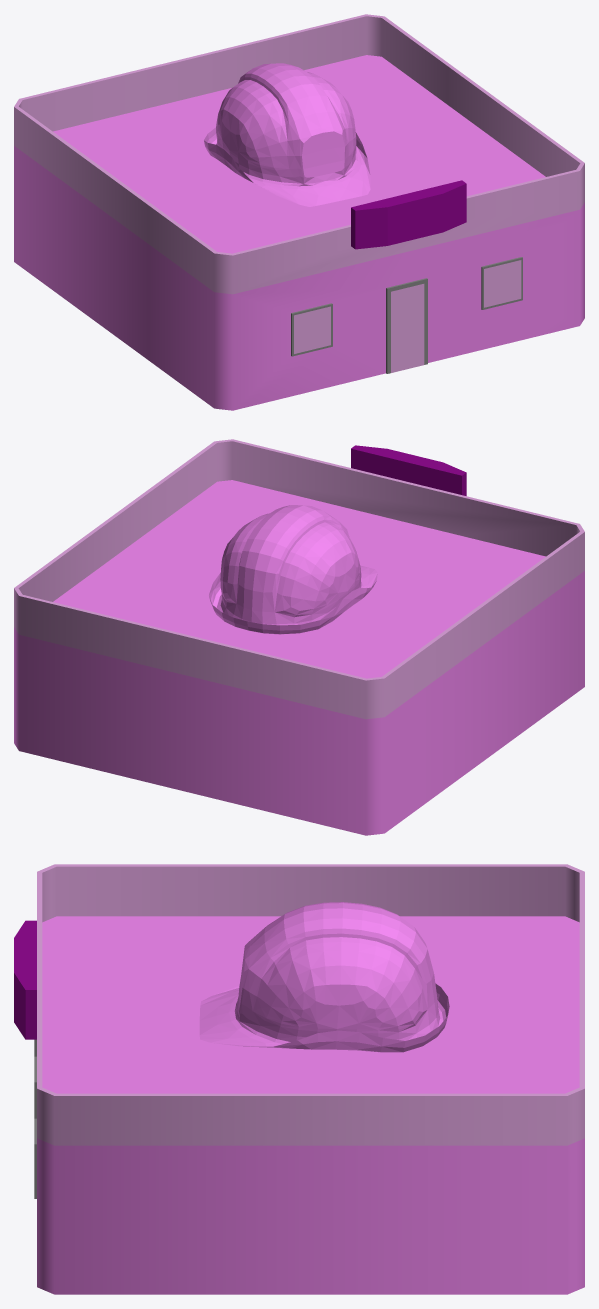
The model's file is Office.fbx.
The picture shows the model from 3 angles, top to bottom: view 1: azimuth 30°, elevation 25°; view 2: azimuth 150°, elevation 25°; view 3: azimuth 270°, elevation 25°; orthographic projection. The views are drawn at different scales.
Visible parts, largest first — view 1: Group1; view 2: Group1; view 3: Group1.
Boxes of the visible parts, left/top/right/bottom form: Group1: left=14, top=14, right=584, bottom=410; Group1: left=14, top=439, right=584, bottom=835; Group1: left=14, top=864, right=584, bottom=1294.
Bounding box in the file's own units: 10 × 5.43 × 10.42.
